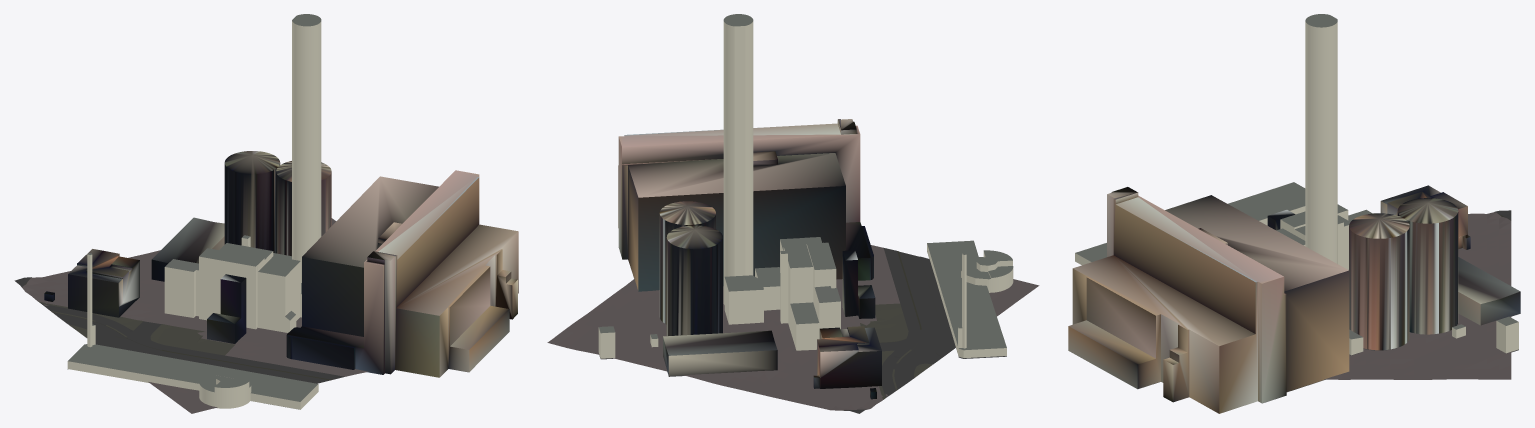
3 renders of one model, left to right at view 1: azimuth 30°, elevation 25°; view 2: azimuth 150°, elevation 25°; view 3: azimuth 270°, elevation 25°, orthographic. The views are drawn at different scales.
Visible parts, largest first — view 1: c_m22_p04; view 2: c_m22_p04; view 3: c_m22_p04.
Part boxes in pixels (<box>): c_m22_p04: <box>14,14,518,413</box>; c_m22_p04: <box>547,14,1039,413</box>; c_m22_p04: <box>1068,14,1520,413</box>.
Bounding box in the file's own units: 174 × 112 × 149.
